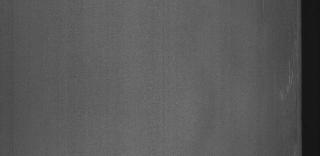silk spot: (270, 59, 298, 107)
